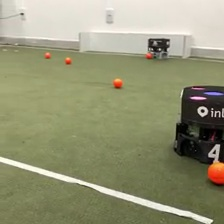ball: (205, 160, 224, 186), (112, 76, 123, 89), (63, 55, 72, 65), (145, 50, 153, 59), (43, 50, 51, 58)
goal: (77, 29, 193, 59)
robot: (172, 83, 224, 165), (146, 36, 171, 61)
